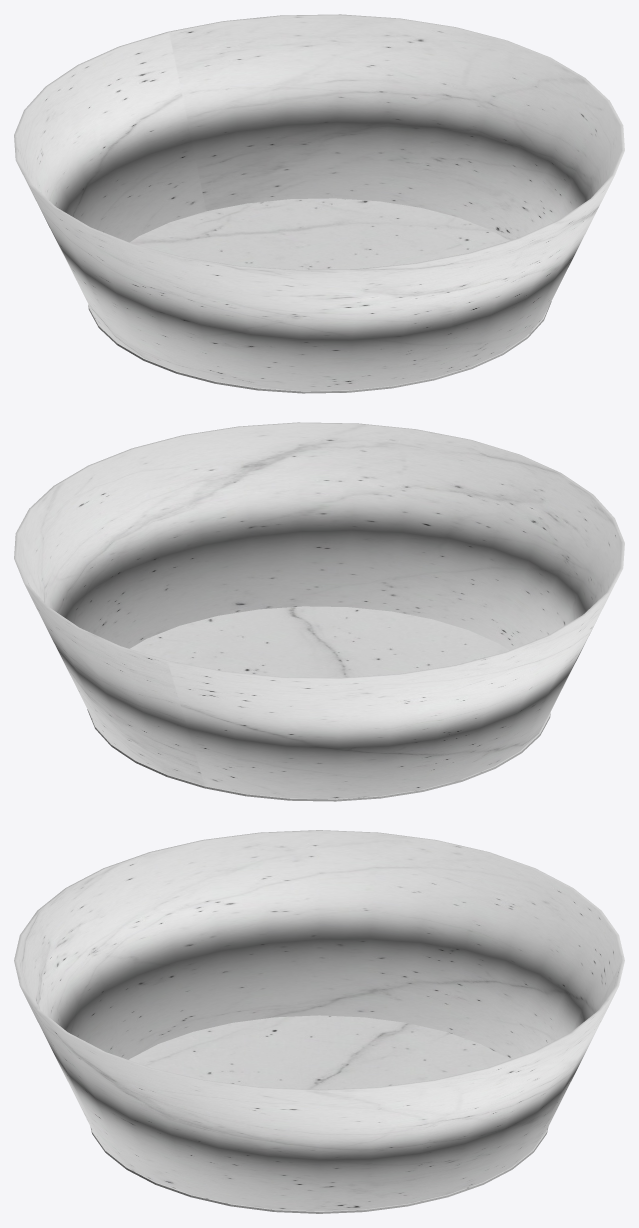
Rendered from Mangkok 1.fbx.
3 views of the same model, one above another, from view 1: azimuth 30°, elevation 25°; view 2: azimuth 150°, elevation 25°; view 3: azimuth 270°, elevation 25° (orthographic).
Visible parts, largest first — view 1: Cylinder, Cylinder.001; view 2: Cylinder, Cylinder.001; view 3: Cylinder, Cylinder.001.
Boxes of the visible parts, bbox=[...] form: Cylinder: bbox=[14, 14, 624, 390]; Cylinder.001: bbox=[88, 198, 551, 393]; Cylinder: bbox=[14, 422, 624, 798]; Cylinder.001: bbox=[87, 606, 550, 801]; Cylinder: bbox=[14, 830, 624, 1211]; Cylinder.001: bbox=[90, 1015, 548, 1213].
Bounding box in the file's own units: 237 × 65.2 × 234.
